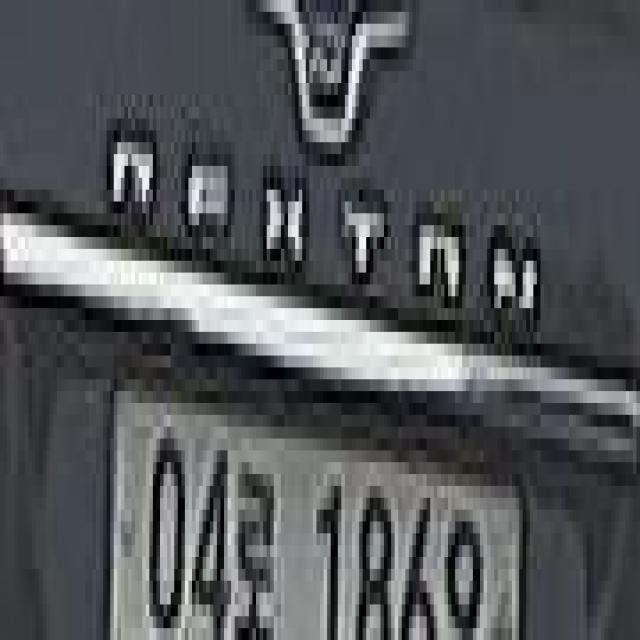illegal_plate: (106, 378, 533, 640)
